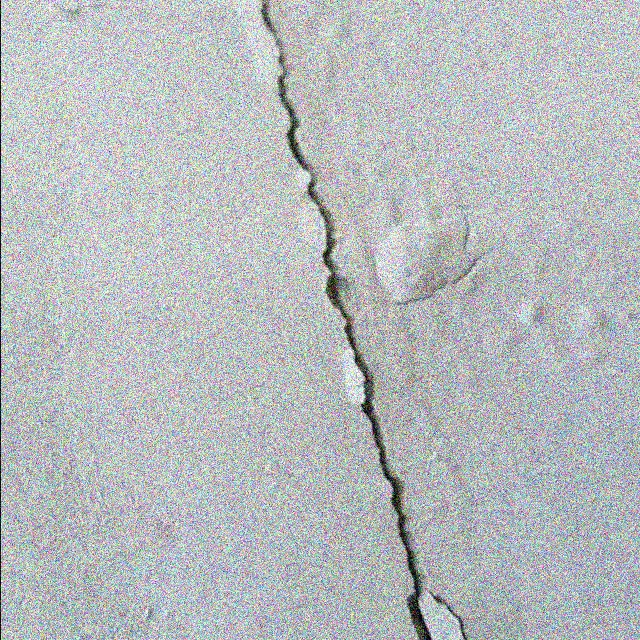SurfaceCrack: (216, 0, 517, 639)
